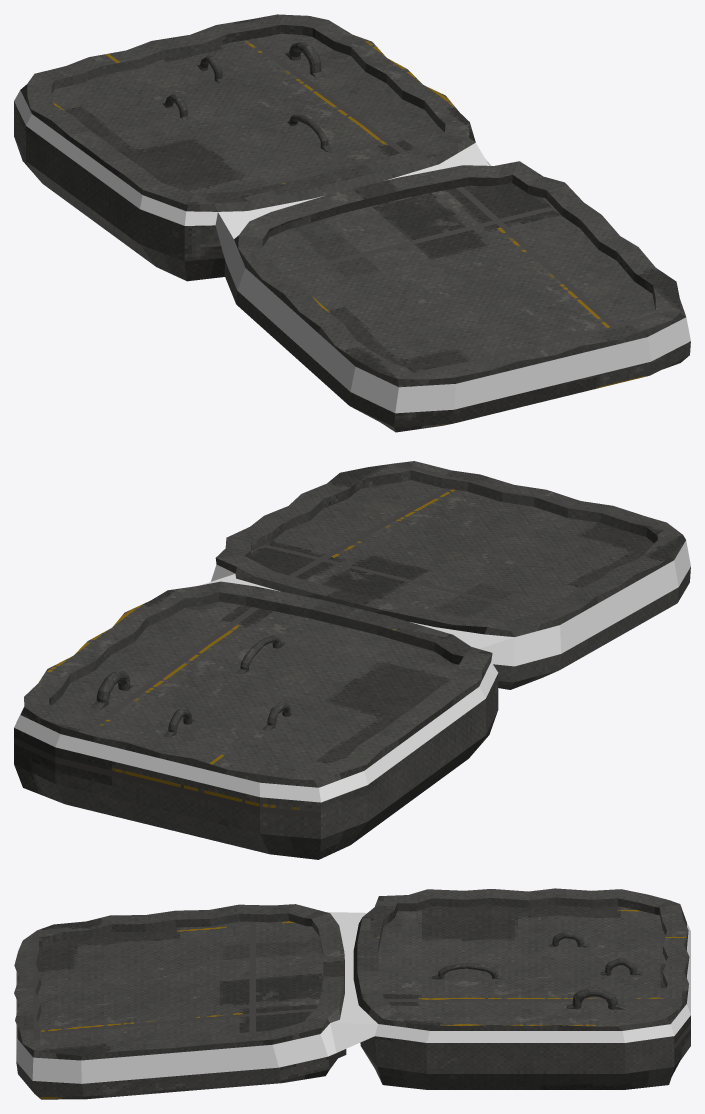
File: Astuccio_Aperto.fbx
3 views of the same model, one above another, from view 1: azimuth 30°, elevation 25°; view 2: azimuth 150°, elevation 25°; view 3: azimuth 270°, elevation 25° (orthographic). The views are drawn at different scales.
Visible parts, largest first — view 1: Torus.005; view 2: Torus.005; view 3: Torus.005.
Boxes of the visible parts, x1,y1,x2,y2 form: Torus.005: (14,14,690,432); Torus.005: (14,461,690,859); Torus.005: (14,888,690,1099).
Bounding box in the file's own units: 0.1685 × 0.0482 × 0.3328.
3 materials, 2 textured.
